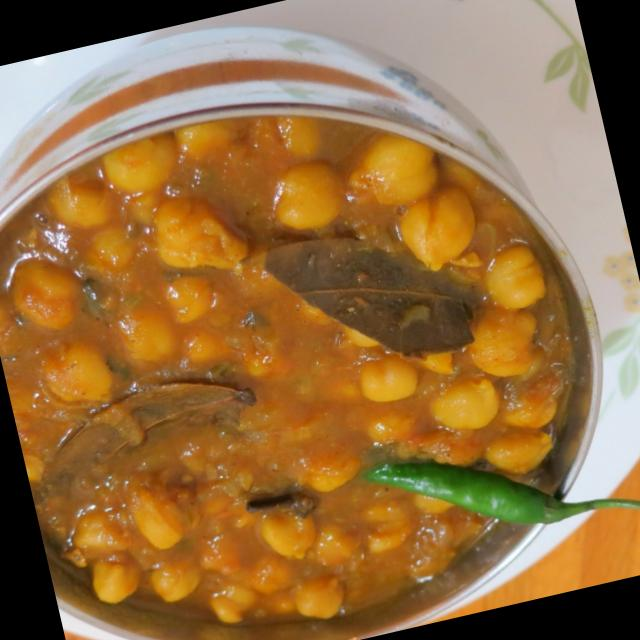Chole: (0, 51, 623, 640)
